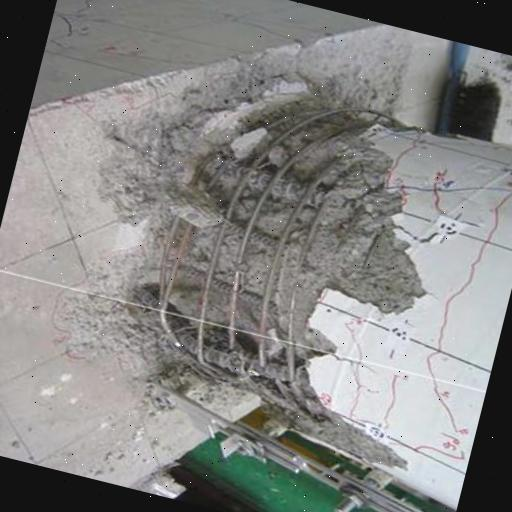spalling: (97, 41, 456, 467)
